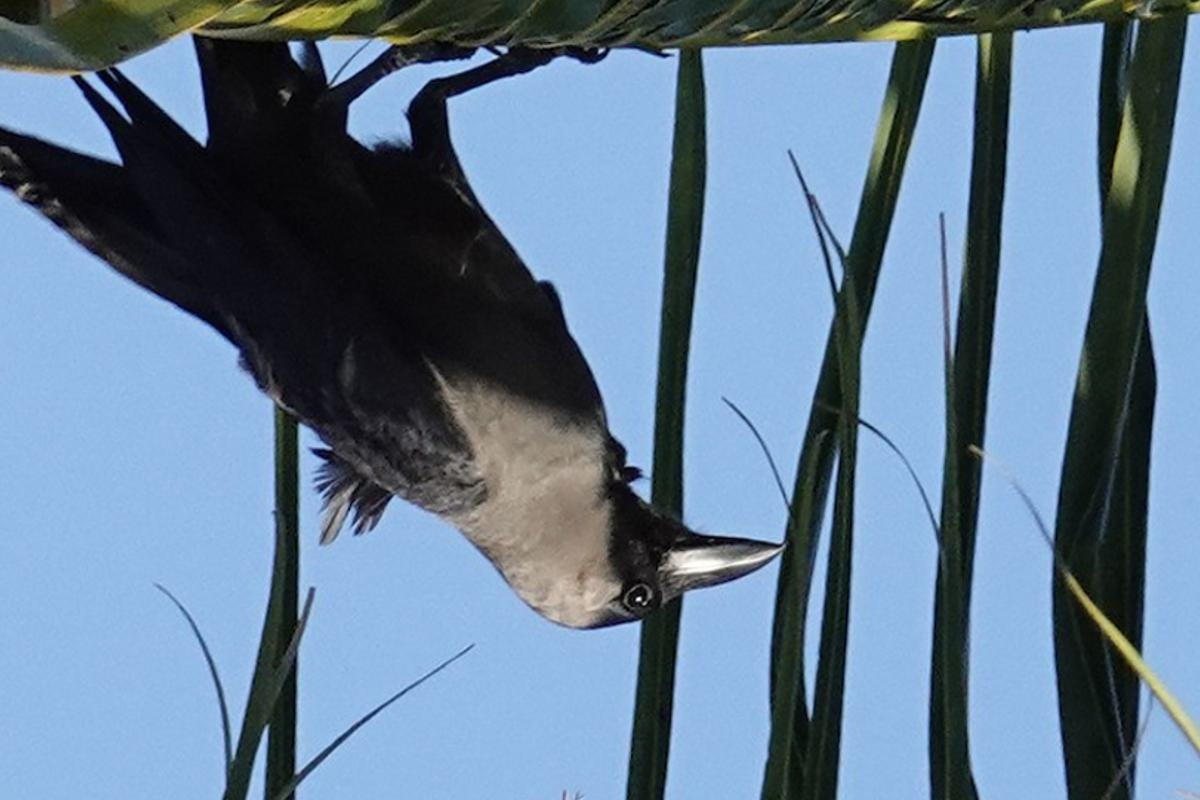crow: (2, 26, 822, 647)
